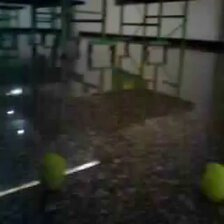tennis: (36, 154, 70, 188), (199, 162, 224, 201)
